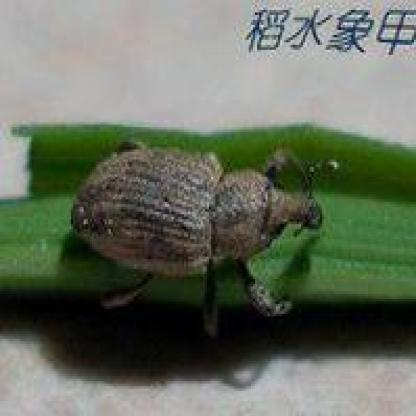rice-bug: (69, 140, 324, 314)
